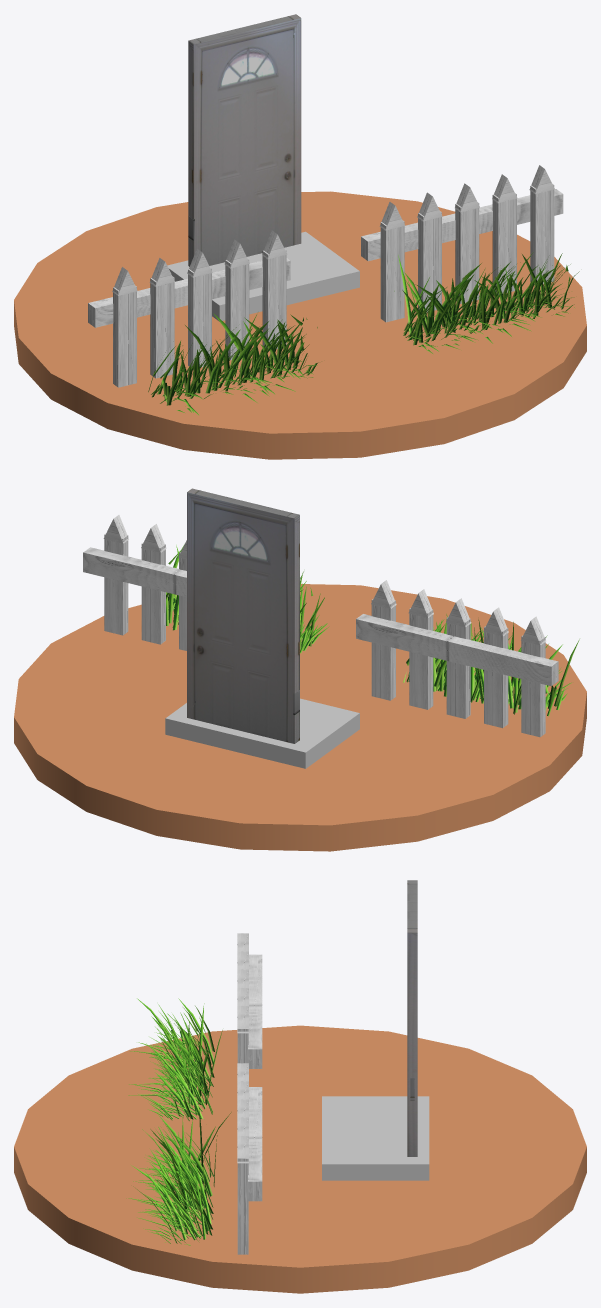
Rendered from 1.2 door.obj.
3 renders of one model, top to bottom at view 1: azimuth 30°, elevation 25°; view 2: azimuth 150°, elevation 25°; view 3: azimuth 270°, elevation 25°, orthographic.
Parts seen in each view (by area): view 1: polySurface1; view 2: polySurface1; view 3: polySurface1.
Part boxes in pixels (box(x1,y1,x2,y2)): polySurface1: box(14, 14, 586, 459); polySurface1: box(14, 488, 586, 851); polySurface1: box(14, 880, 586, 1293).
Size of the model in its own units: 640 by 328 by 640.
5 materials, 3 textured.
